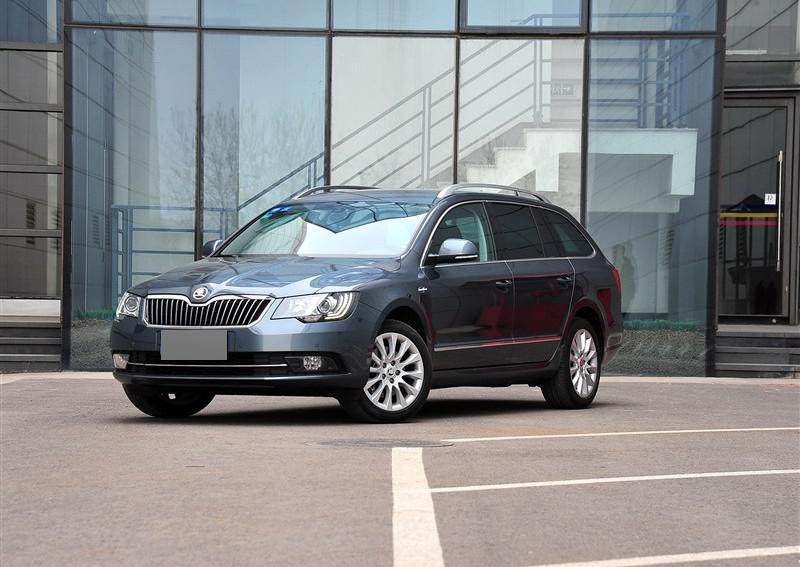Wagon: (107, 182, 624, 425)
